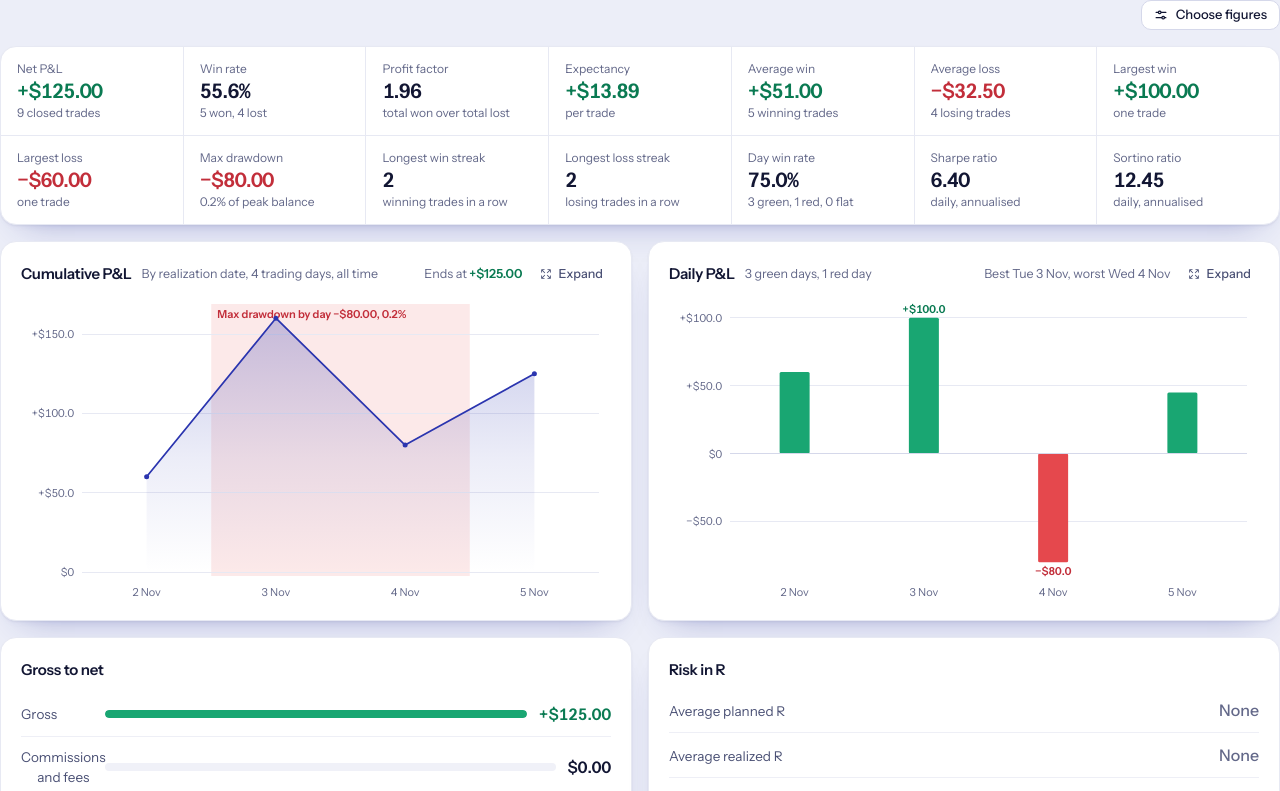
Test: with no swap the dialog still lists the Gross to net Swap line, reading None
Click the button "Choose figures" at (1210, 15), box [1141,0,1279,30]
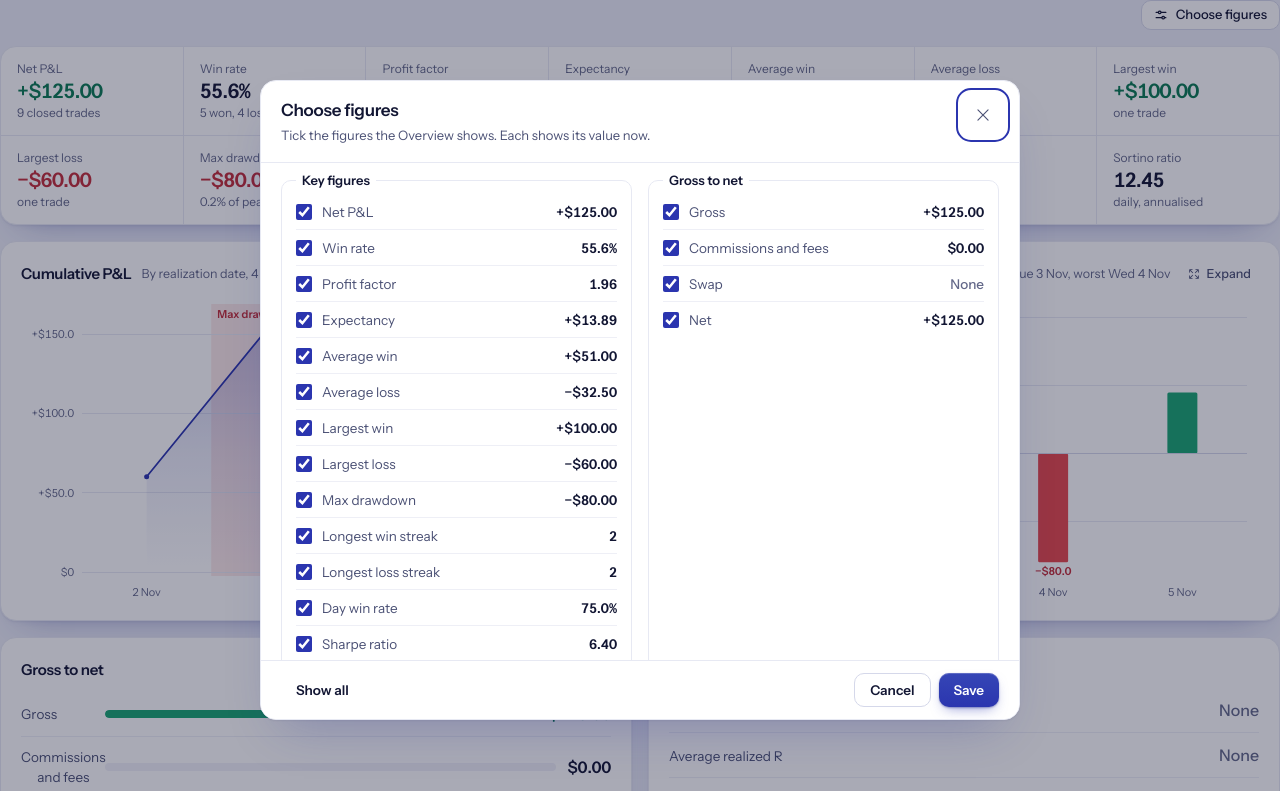
Check: the checkbox labelled "Swap" is checked, box [663,276,679,292]
Check: the element showing "None" is shown, box [950,274,984,294]
